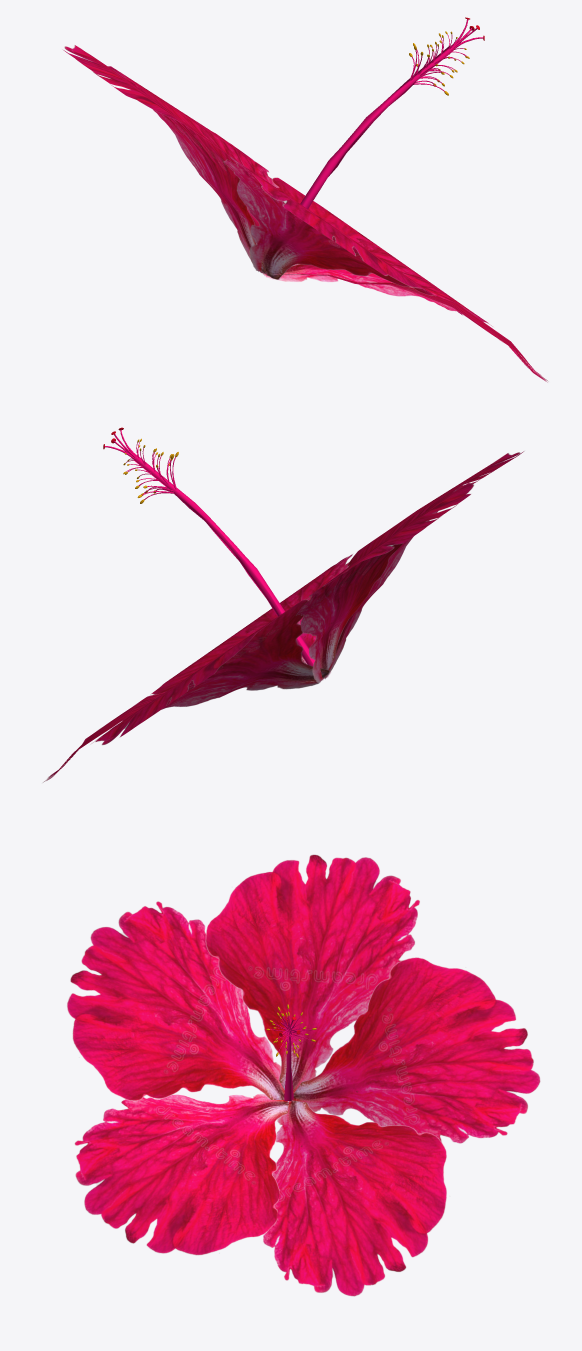
The model's file is flower.glb.
3 views of the same model, one above another, from view 1: azimuth 30°, elevation 25°; view 2: azimuth 150°, elevation 25°; view 3: azimuth 270°, elevation 25° (orthographic). The views are drawn at different scales.
Parts seen in each view (by area): view 1: hibiscus, hibiscus.001, hibiscus.003, BezierCurve, hibiscus.002, hibiscus.004; view 2: hibiscus.002, hibiscus.001, hibiscus.004, hibiscus, BezierCurve, hibiscus.003; view 3: hibiscus.001, hibiscus.002, hibiscus, hibiscus.004, hibiscus.003.
Boxes of the visible parts, left/top/right/bottom form: hibiscus: left=223, top=156, right=435, bottom=296; hibiscus.001: left=62, top=45, right=266, bottom=273; hibiscus.003: left=263, top=177, right=492, bottom=326; BezierCurve: left=266, top=46, right=453, bottom=273; hibiscus.002: left=108, top=66, right=278, bottom=275; hibiscus.004: left=263, top=274, right=548, bottom=382; hibiscus.002: left=91, top=599, right=329, bottom=745; hibiscus.001: left=296, top=482, right=473, bottom=683; hibiscus.004: left=150, top=554, right=352, bottom=694; hibiscus: left=324, top=451, right=524, bottom=678; BezierCurve: left=134, top=456, right=315, bottom=666; hibiscus.003: left=43, top=680, right=322, bottom=782; hibiscus.001: left=205, top=854, right=419, bottom=1093; hibiscus.002: left=292, top=957, right=540, bottom=1143; hibiscus: left=66, top=901, right=284, bottom=1100; hibiscus.004: left=74, top=1093, right=288, bottom=1255; hibiscus.003: left=262, top=1100, right=450, bottom=1296.
Size of the model in its own units: 1397 by 1208 by 1857.
Materials: 4 (1 with a texture image).
